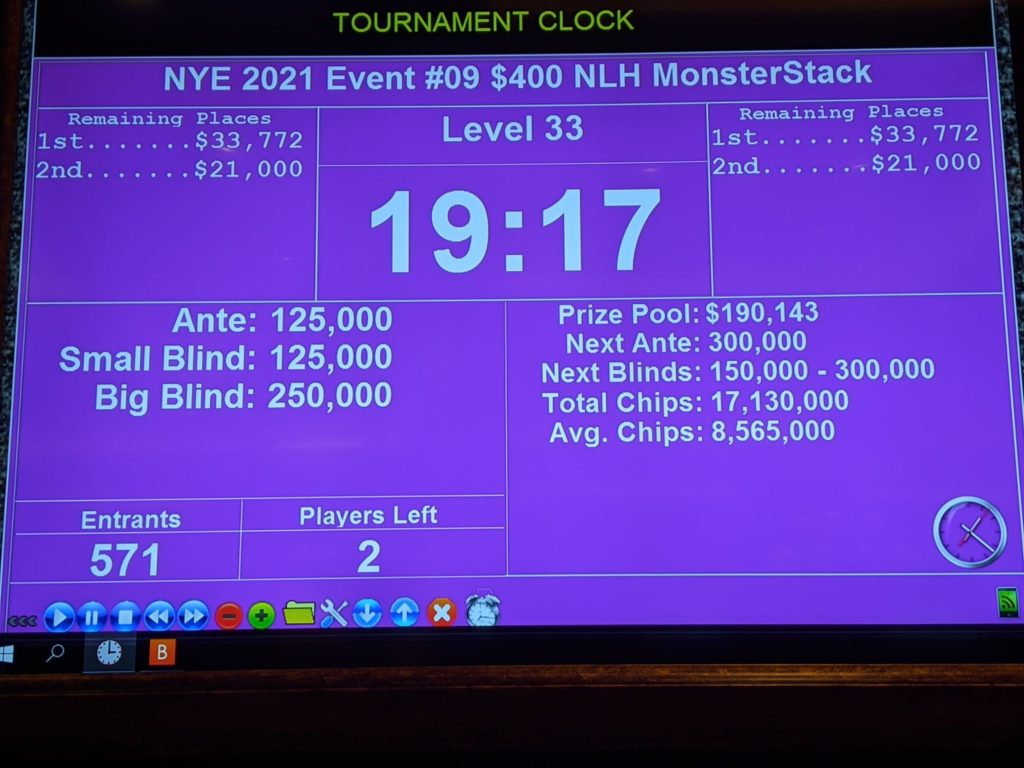PlayersLeft: (236, 495, 512, 582)
Remaining: (703, 99, 1008, 298), (33, 103, 319, 304)
TournamentClock: (29, 57, 1024, 579)
